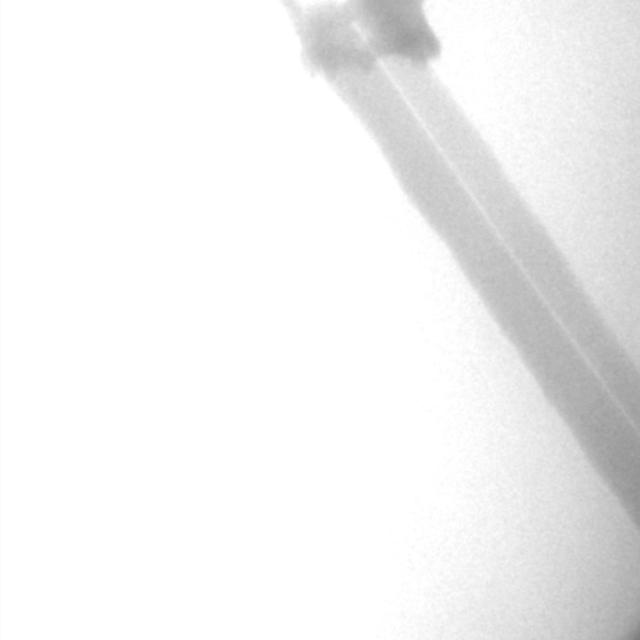broken arc: (339, 2, 636, 426)
